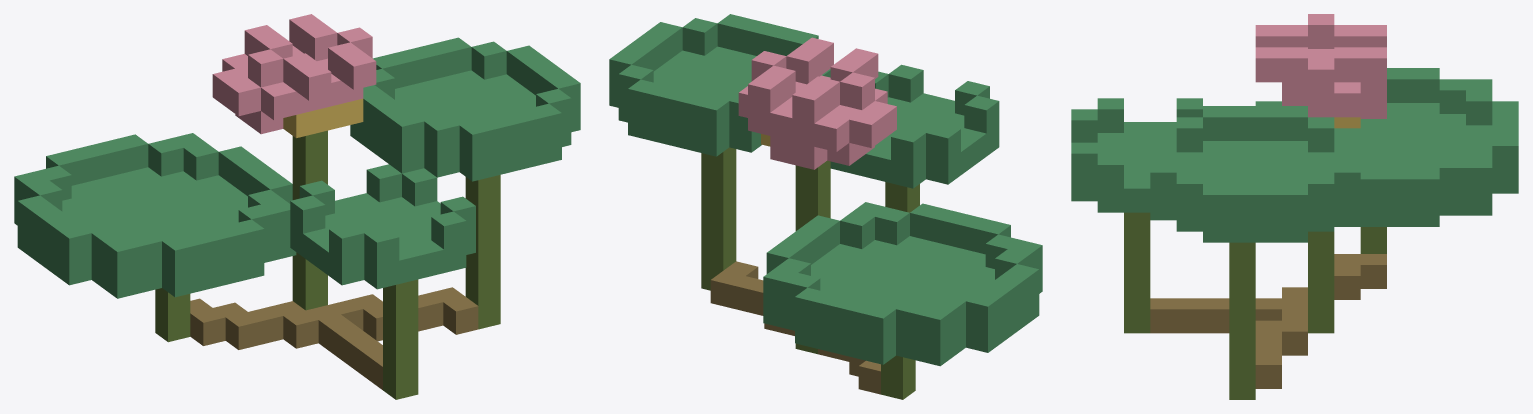
File: visual-far.glb
3 renders of one model, left to right at view 1: azimuth 30°, elevation 25°; view 2: azimuth 150°, elevation 25°; view 3: azimuth 270°, elevation 25°, orthographic. The views are drawn at different scales.
Parts seen in each view (by area): view 1: 水生荷叶与湿岸叶簇母版; view 2: 水生荷叶与湿岸叶簇母版; view 3: 水生荷叶与湿岸叶簇母版.
Part boxes in pixels (<box>): 水生荷叶与湿岸叶簇母版: <box>14,14,580,399</box>; 水生荷叶与湿岸叶簇母版: <box>609,14,1042,399</box>; 水生荷叶与湿岸叶簇母版: <box>1071,14,1518,399</box>.
Bounding box in the file's own units: 4 × 2.4 × 3.4.
Materials: 5 (5 with a texture image).
